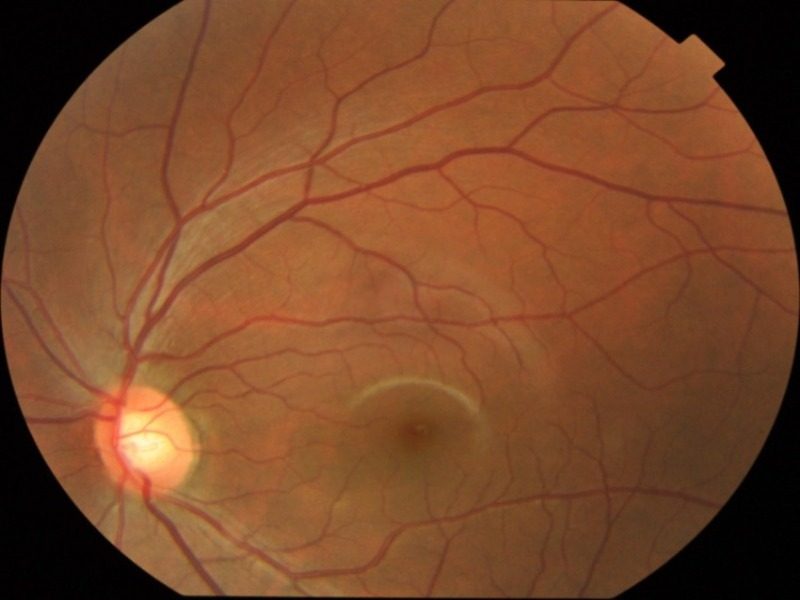Optic Cup: (119, 415, 167, 465)
Optic Disc: (93, 384, 198, 494)
